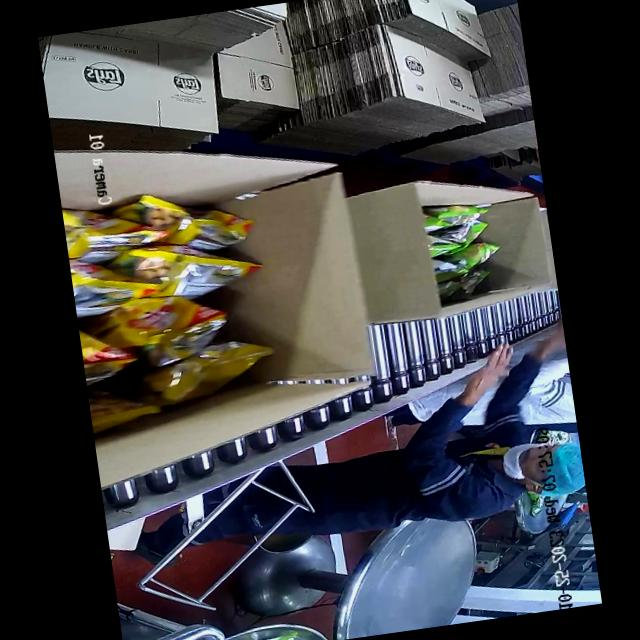salted: (64, 178, 284, 423)
yogurt: (416, 188, 515, 302)
